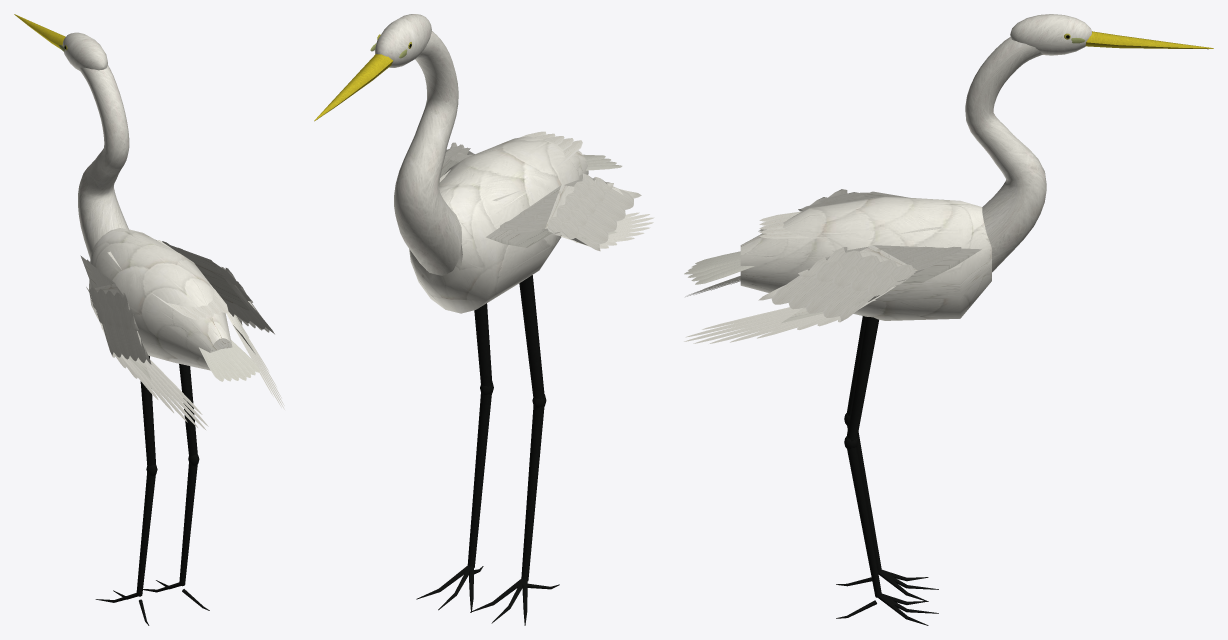
File: great-egret.glb
3 views of the same model, side by side, from view 1: azimuth 30°, elevation 25°; view 2: azimuth 150°, elevation 25°; view 3: azimuth 270°, elevation 25° (orthographic). The views are drawn at different scales.
Visible parts, largest first — view 1: GreatEgret; view 2: GreatEgret; view 3: GreatEgret.
Part boxes in pixels (x1,y1,x2,y2): GreatEgret: (14, 14, 284, 625); GreatEgret: (314, 14, 654, 625); GreatEgret: (684, 14, 1213, 625).
Size of the model in its own units: 0.2729 by 1.03 by 0.844.
1 material, 1 textured.
